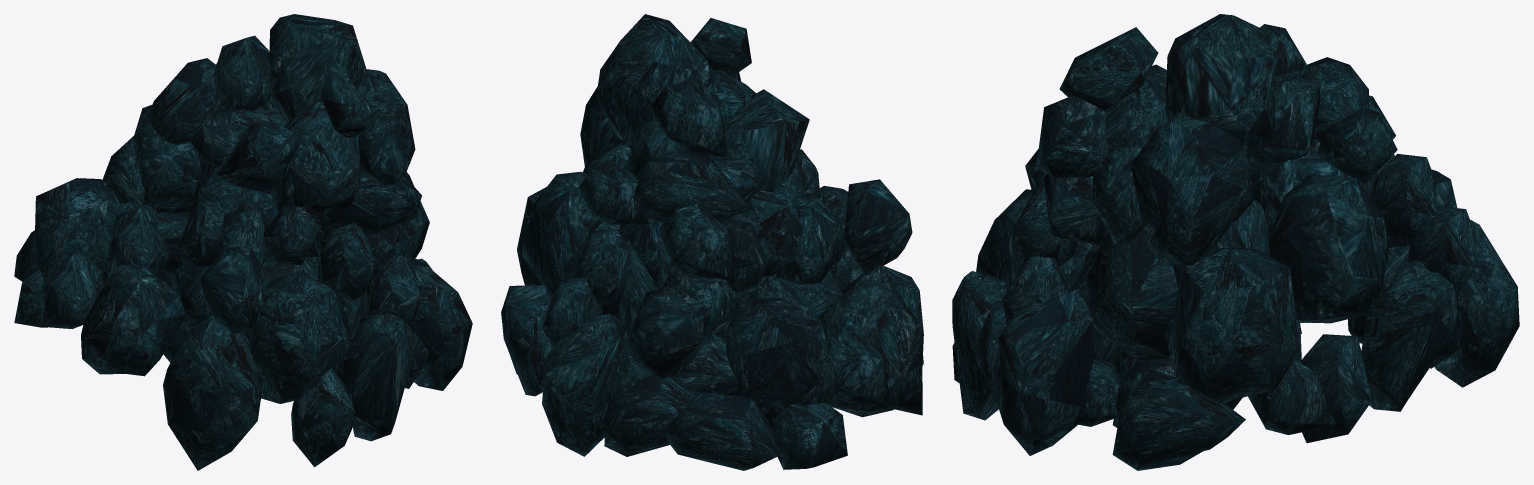
The model's file is rockwall.fbx.
The picture shows the model from 3 angles, left to right: view 1: azimuth 30°, elevation 25°; view 2: azimuth 150°, elevation 25°; view 3: azimuth 270°, elevation 25°; orthographic projection. The views are drawn at different scales.
Parts seen in each view (by area): view 1: rocks; view 2: rocks; view 3: rocks.
Boxes of the visible parts, x1,y1,x2,y2 form: rocks: [14, 14, 472, 470]; rocks: [501, 14, 923, 470]; rocks: [952, 14, 1519, 470].
Bounding box in the file's own units: 684 × 667 × 776.
1 material, 1 textured.
